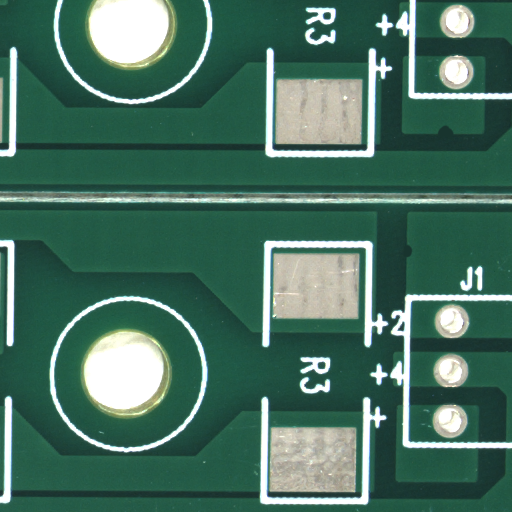Mouse_bite: (445, 130, 459, 141), (409, 251, 417, 266)
